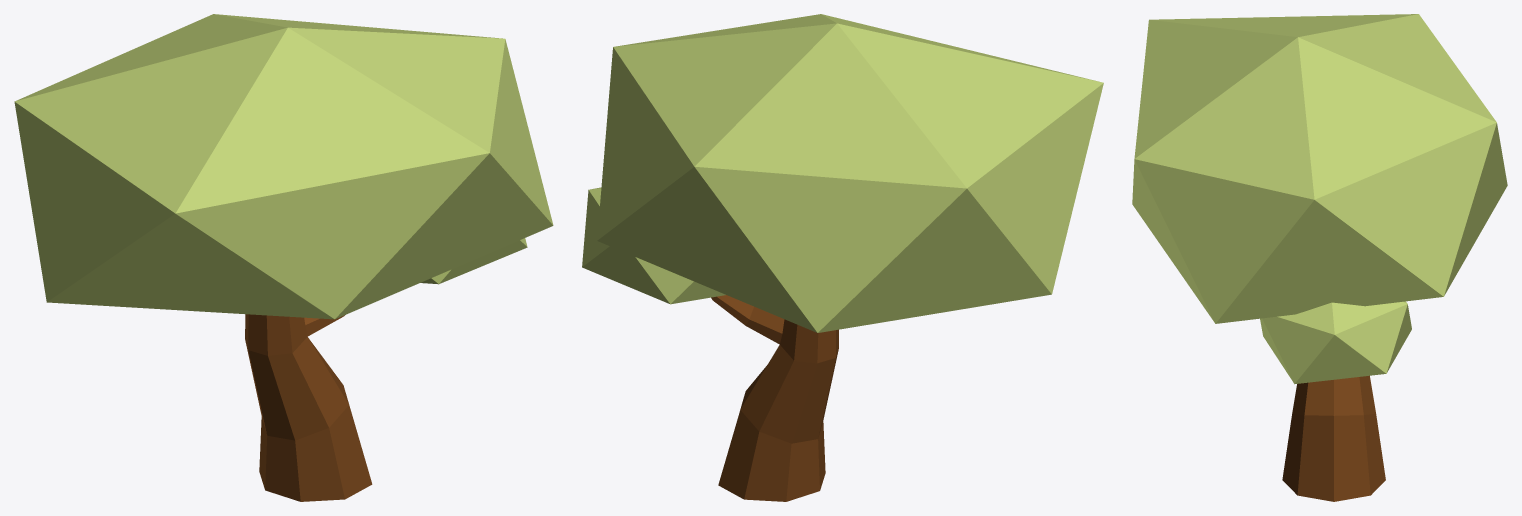
File: Bush2.glb
The picture shows the model from 3 angles, left to right: view 1: azimuth 30°, elevation 25°; view 2: azimuth 150°, elevation 25°; view 3: azimuth 270°, elevation 25°; orthographic projection. The views are drawn at different scales.
Visible parts, largest first — view 1: Bush2_Icosphere.002; view 2: Bush2_Icosphere.002; view 3: Bush2_Icosphere.002.
Part boxes in pixels (x1=…): Bush2_Icosphere.002: x1=14, y1=14, x2=553, y2=501; Bush2_Icosphere.002: x1=582, y1=14, x2=1103, y2=501; Bush2_Icosphere.002: x1=1132, y1=14, x2=1507, y2=501.
Bounding box in the file's own units: 0.9968 × 0.9567 × 0.7714.
